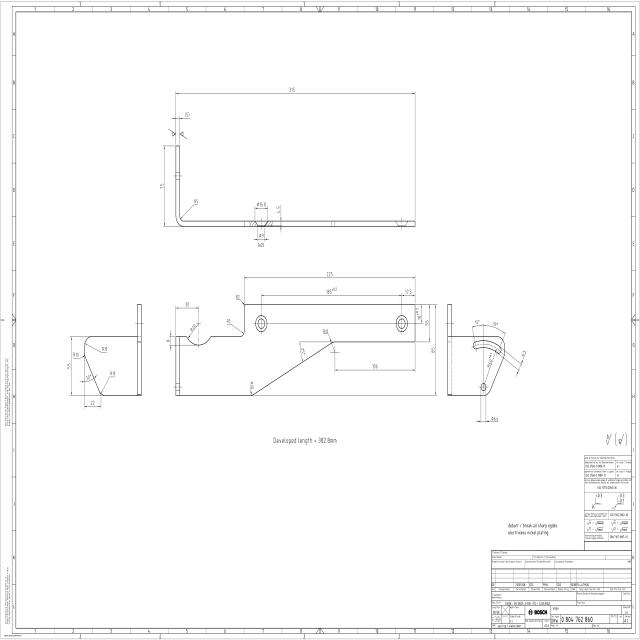dimension: (175, 86, 416, 97), (261, 286, 402, 301), (243, 270, 416, 282), (334, 362, 416, 374), (430, 304, 440, 398), (159, 144, 167, 228), (179, 198, 200, 220), (100, 369, 118, 394), (67, 334, 74, 396), (321, 328, 337, 354), (252, 227, 270, 249), (483, 319, 506, 336), (226, 317, 246, 335), (515, 349, 527, 377), (485, 348, 494, 382), (84, 342, 108, 354), (425, 304, 432, 342), (175, 300, 199, 311), (165, 329, 176, 353), (171, 110, 191, 123), (297, 340, 308, 363), (474, 415, 499, 425), (276, 203, 283, 234), (84, 398, 102, 410), (83, 370, 99, 383), (188, 322, 200, 338), (471, 319, 486, 331), (254, 200, 268, 212), (416, 304, 424, 324), (234, 293, 245, 306), (402, 288, 416, 298), (248, 380, 255, 397), (72, 351, 84, 360)
